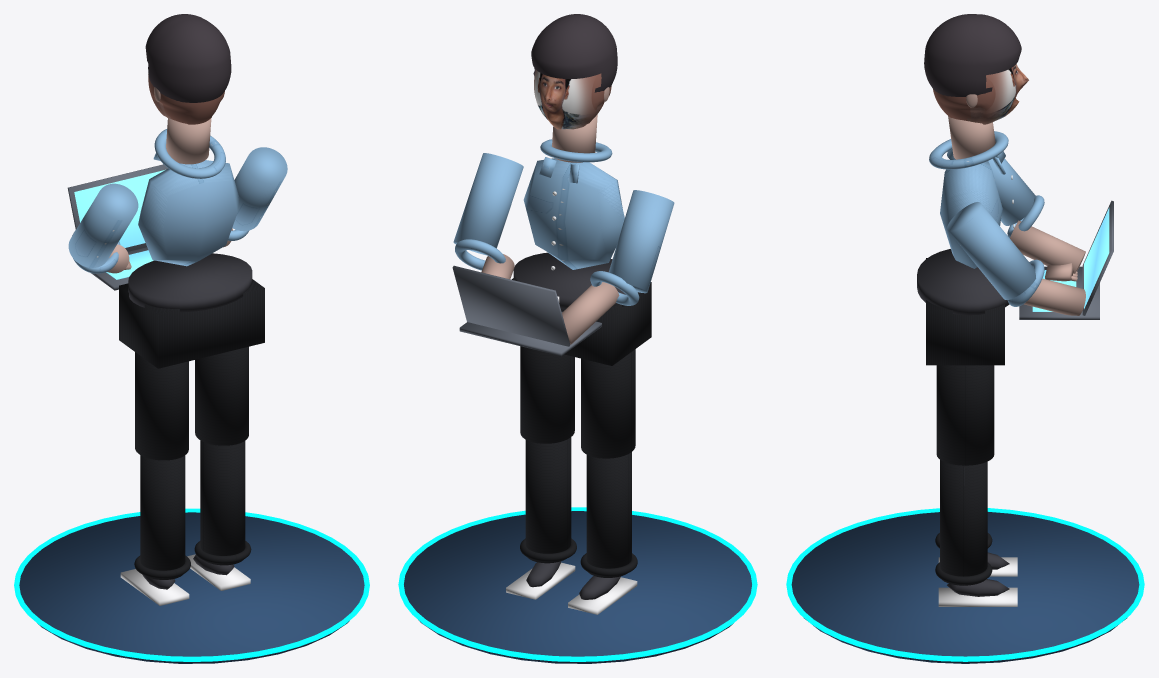
Rendered from kabish_coding_avatar.glb.
3 views of the same model, side by side, from view 1: azimuth 30°, elevation 25°; view 2: azimuth 150°, elevation 25°; view 3: azimuth 270°, elevation 25° (orthographic).
Visible parts, largest first — view 1: Kabish_Turntable_Pedestal, Kabish_Shirt, Kabish_Pelvis, Kabish_Hair, Kabish_Belt, Kabish_Thigh_L, Kabish_Calf_R, Kabish_Calf_L, Kabish_Thigh_R, Kabish_Neon_Ring, Kabish_Sleeve_L, Kabish_Sleeve_R (+9 smaller); view 2: Kabish_Turntable_Pedestal, Kabish_Shirt, Developer_Laptop_Screen, Kabish_Thigh_L, Kabish_Calf_R, Kabish_Calf_L, Kabish_Thigh_R, Kabish_Hair, Kabish_Sleeve_L, Kabish_Neon_Ring, Kabish_Sleeve_R, Kabish_Pelvis (+15 smaller); view 3: Kabish_Turntable_Pedestal, Kabish_Hair, Kabish_Thigh_R, Kabish_Calf_R, Kabish_Pelvis, Kabish_Sleeve_R, Kabish_Neon_Ring, Kabish_Belt, Kabish_Shirt, Kabish_Head, Kabish_Forearm_L, Kabish_Sleeve_L (+10 smaller).
Part boxes in pixels (box(x1,y1,x2,y2)): Kabish_Turntable_Pedestal: box(19, 512, 364, 663); Kabish_Shirt: box(138, 160, 239, 266); Kabish_Pelvis: box(119, 279, 264, 368); Kabish_Hair: box(145, 14, 231, 102); Kabish_Belt: box(128, 253, 252, 312); Kabish_Thigh_L: box(135, 352, 188, 460); Kabish_Calf_R: box(200, 440, 245, 565); Kabish_Calf_L: box(140, 455, 185, 579); Kabish_Thigh_R: box(195, 346, 248, 445); Kabish_Neon_Ring: box(14, 508, 369, 661); Kabish_Sleeve_L: box(68, 183, 138, 267); Kabish_Sleeve_R: box(232, 147, 287, 231); Kabish_Turntable_Pedestal: box(404, 511, 751, 663); Kabish_Shirt: box(523, 158, 624, 269); Developer_Laptop_Screen: box(452, 265, 570, 346); Kabish_Thigh_L: box(581, 349, 635, 458); Kabish_Calf_R: box(525, 437, 571, 563); Kabish_Calf_L: box(586, 452, 631, 577); Kabish_Thigh_R: box(520, 346, 574, 443); Kabish_Hair: box(531, 14, 617, 92); Kabish_Sleeve_L: box(608, 190, 674, 293); Kabish_Neon_Ring: box(398, 507, 757, 661); Kabish_Sleeve_R: box(453, 153, 523, 255); Kabish_Pelvis: box(512, 278, 651, 365); Kabish_Turntable_Pedestal: box(791, 512, 1139, 663); Kabish_Hair: box(924, 14, 1021, 96); Kabish_Thigh_R: box(936, 365, 994, 465); Kabish_Calf_R: box(940, 460, 987, 585); Kabish_Pelvis: box(926, 258, 1004, 365); Kabish_Sleeve_R: box(947, 202, 1035, 300); Kabish_Neon_Ring: box(786, 508, 1144, 661); Kabish_Belt: box(917, 249, 1009, 315); Kabish_Shirt: box(940, 161, 1002, 268); Kabish_Head: box(933, 64, 1028, 124); Kabish_Forearm_L: box(1010, 220, 1085, 273); Kabish_Sleeve_L: box(947, 149, 1035, 225).
Size of the model in its own units: 1.07 by 1.88 by 1.07.
Materials: 14 (3 with a texture image).
